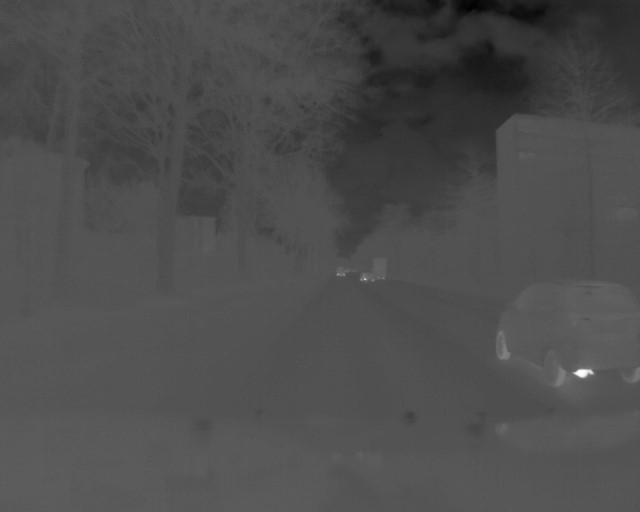car: (495, 281, 640, 388), (371, 256, 386, 282)
